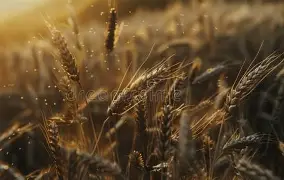crops: (0, 0, 279, 177)
